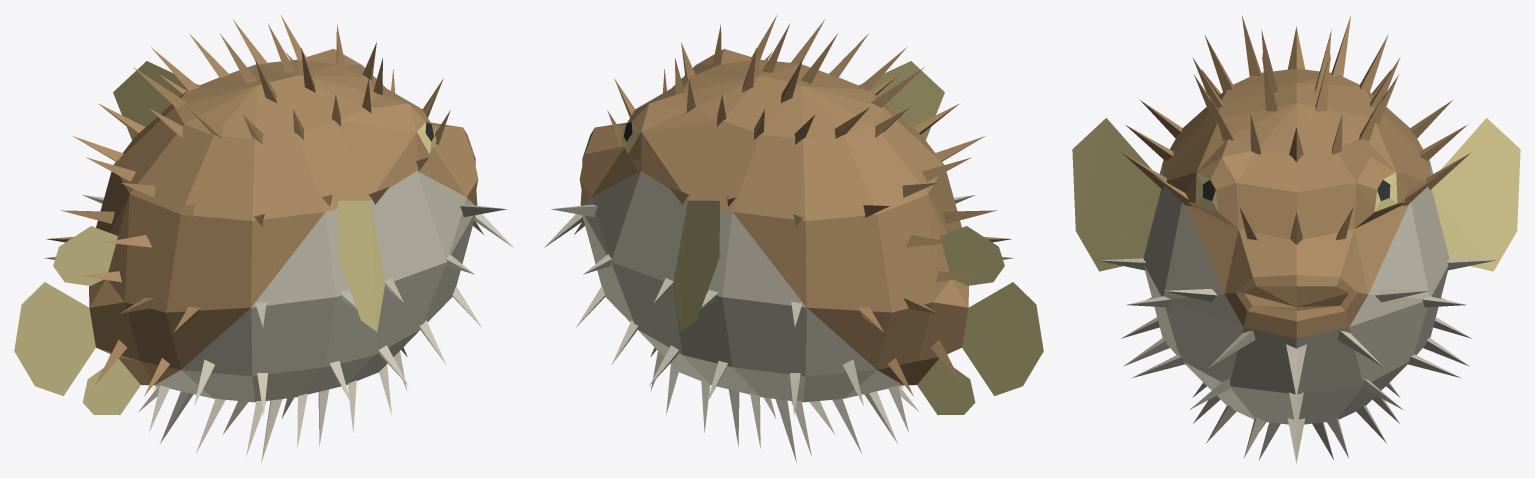
Rendered from Pufferfish.fbx.
The picture shows the model from 3 angles, left to right: view 1: azimuth 30°, elevation 25°; view 2: azimuth 150°, elevation 25°; view 3: azimuth 270°, elevation 25°; orthographic projection.
Visible parts, largest first — view 1: Pufferfish; view 2: Pufferfish; view 3: Pufferfish.
Part boxes in pixels (x1,y1,x2,y2): Pufferfish: [14, 14, 513, 462]; Pufferfish: [544, 14, 1043, 462]; Pufferfish: [1072, 15, 1520, 463].
Size of the model in its own units: 2.92 by 2.41 by 2.43.
